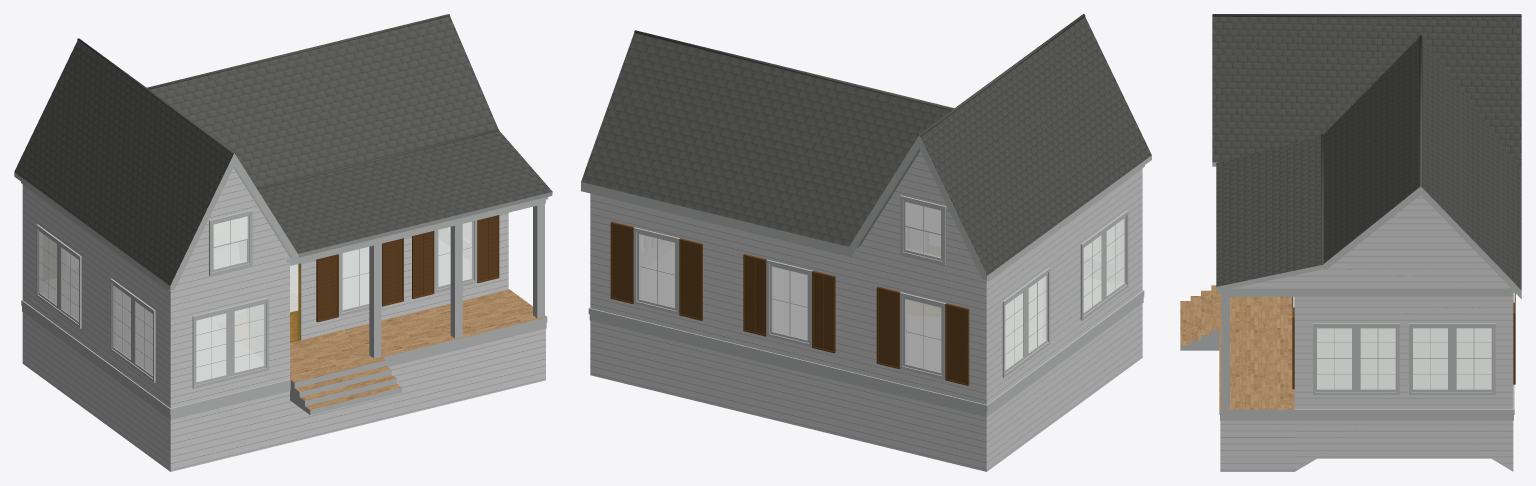
The model's file is house.glb.
3 views of the same model, side by side, from view 1: azimuth 30°, elevation 25°; view 2: azimuth 150°, elevation 25°; view 3: azimuth 270°, elevation 25° (orthographic). The views are drawn at different scales.
Visible parts, largest first — view 1: Object_12, Object_7, Object_3, Object_10, Object_11, Object_8; view 2: Object_12, Object_7, Object_3, Object_10, Object_8; view 3: Object_12, Object_7, Object_3, Object_11, Object_10.
Boxes of the visible parts, x1,y1,x2,y2 form: Object_12: (14, 14, 552, 285); Object_7: (22, 168, 545, 471); Object_3: (14, 153, 552, 419); Object_10: (40, 208, 472, 382); Object_11: (290, 289, 546, 409); Object_8: (319, 215, 497, 320); Object_12: (581, 14, 1151, 275); Object_7: (590, 151, 1142, 471); Object_3: (581, 135, 1151, 417); Object_10: (639, 202, 1124, 372); Object_8: (612, 224, 966, 383); Object_12: (1212, 14, 1521, 290); Object_7: (1220, 195, 1513, 471); Object_3: (1180, 162, 1521, 420); Object_11: (1180, 285, 1294, 409); Object_10: (1317, 328, 1491, 389).
Size of the model in its own units: 10.35 by 7.92 by 8.02.
8 materials, 8 textured.
